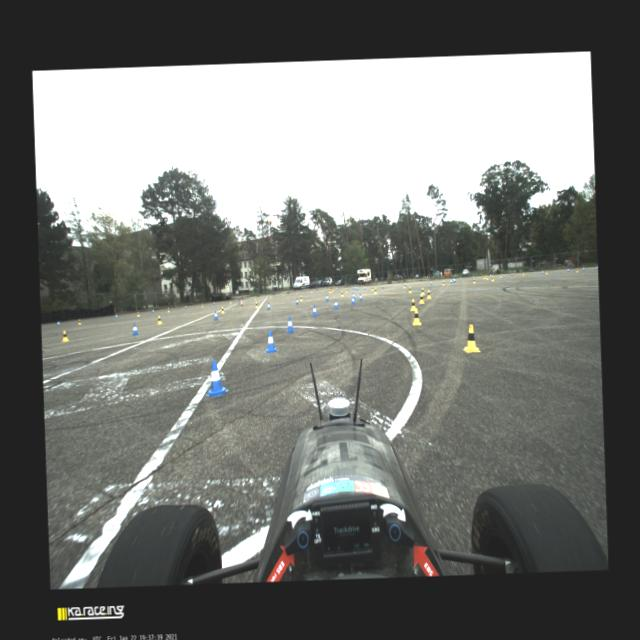blue_cone: (204, 359, 229, 397), (263, 330, 278, 352), (284, 316, 296, 332), (130, 323, 138, 335), (311, 304, 318, 316), (350, 296, 356, 305), (334, 300, 338, 310), (214, 310, 218, 320), (295, 297, 299, 305), (266, 302, 270, 310), (358, 292, 362, 300), (351, 291, 355, 299), (324, 294, 328, 301), (56, 320, 60, 326), (151, 308, 154, 314), (114, 313, 117, 318), (449, 278, 452, 283), (184, 304, 187, 308), (212, 300, 215, 304), (596, 264, 598, 270), (542, 268, 544, 274), (429, 280, 432, 284), (364, 285, 366, 290), (567, 267, 569, 272), (356, 285, 358, 290), (234, 298, 236, 302), (582, 266, 584, 270), (510, 272, 512, 276), (459, 276, 461, 280), (453, 278, 455, 282), (382, 284, 384, 288), (405, 282, 407, 286), (354, 286, 356, 290), (280, 292, 282, 296), (489, 274, 491, 277), (472, 275, 474, 278), (336, 287, 338, 290), (355, 285, 356, 289), (267, 294, 268, 298), (313, 288, 314, 292), (324, 288, 326, 290), (452, 278, 453, 282), (297, 290, 298, 294), (348, 286, 349, 289), (252, 296, 253, 299), (352, 286, 353, 289)
yellow_cone: (460, 323, 480, 354), (411, 308, 421, 326), (60, 330, 70, 342), (408, 298, 416, 310), (418, 293, 424, 304), (156, 314, 162, 324), (426, 288, 431, 299), (220, 306, 225, 314), (408, 286, 412, 294), (373, 287, 377, 294), (421, 287, 424, 295), (472, 278, 476, 284), (78, 318, 82, 324), (299, 294, 302, 302), (340, 290, 343, 297), (371, 284, 374, 291), (255, 301, 258, 308), (544, 269, 548, 274), (403, 282, 406, 288), (442, 280, 445, 286), (136, 310, 139, 316), (485, 274, 488, 280), (490, 276, 493, 282), (344, 288, 348, 292), (575, 267, 578, 272), (167, 307, 170, 312), (499, 272, 502, 277), (522, 270, 524, 276), (230, 298, 232, 304), (253, 296, 256, 300), (482, 274, 484, 280), (201, 302, 203, 307), (329, 288, 331, 292), (331, 288, 333, 292), (484, 274, 486, 278), (492, 275, 494, 279), (328, 288, 330, 292), (310, 289, 312, 293), (295, 290, 297, 294), (282, 292, 284, 296), (269, 294, 271, 298), (322, 288, 323, 292)
